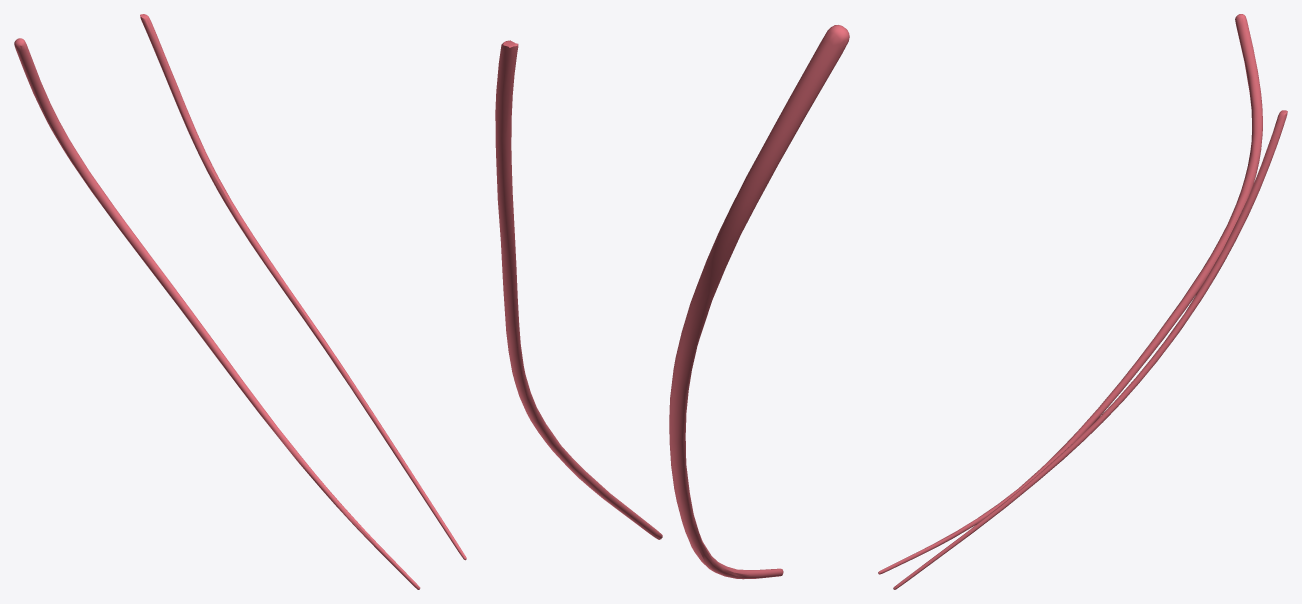
File: fma85097_cx247.glb
3 views of the same model, side by side, from view 1: azimuth 30°, elevation 25°; view 2: azimuth 150°, elevation 25°; view 3: azimuth 270°, elevation 25° (orthographic). The views are drawn at different scales.
Parts seen in each view (by area): view 1: FMA85097_CX247; view 2: FMA85097_CX247; view 3: FMA85097_CX247.
Boxes of the visible parts, box(x1,y1,x2,y2) form: FMA85097_CX247: box(14, 14, 466, 589); FMA85097_CX247: box(495, 25, 849, 579); FMA85097_CX247: box(878, 14, 1287, 589).
Size of the model in its own units: 0.0372 by 0.0606 by 0.0491.
